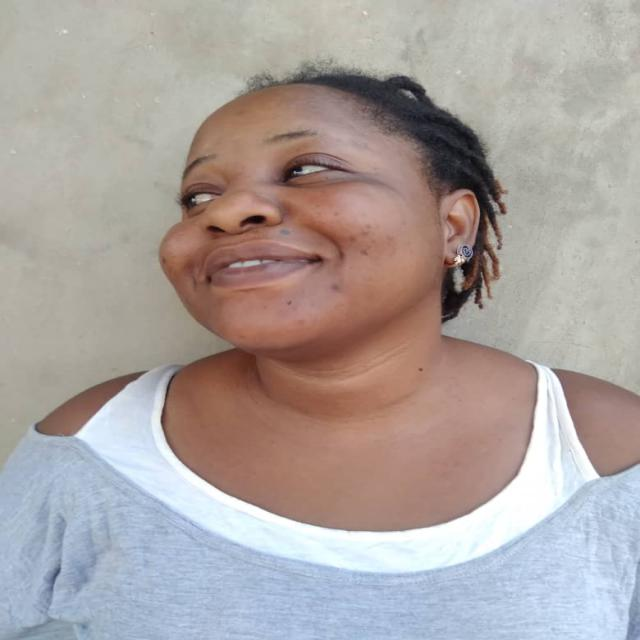happy: (150, 57, 476, 365)
